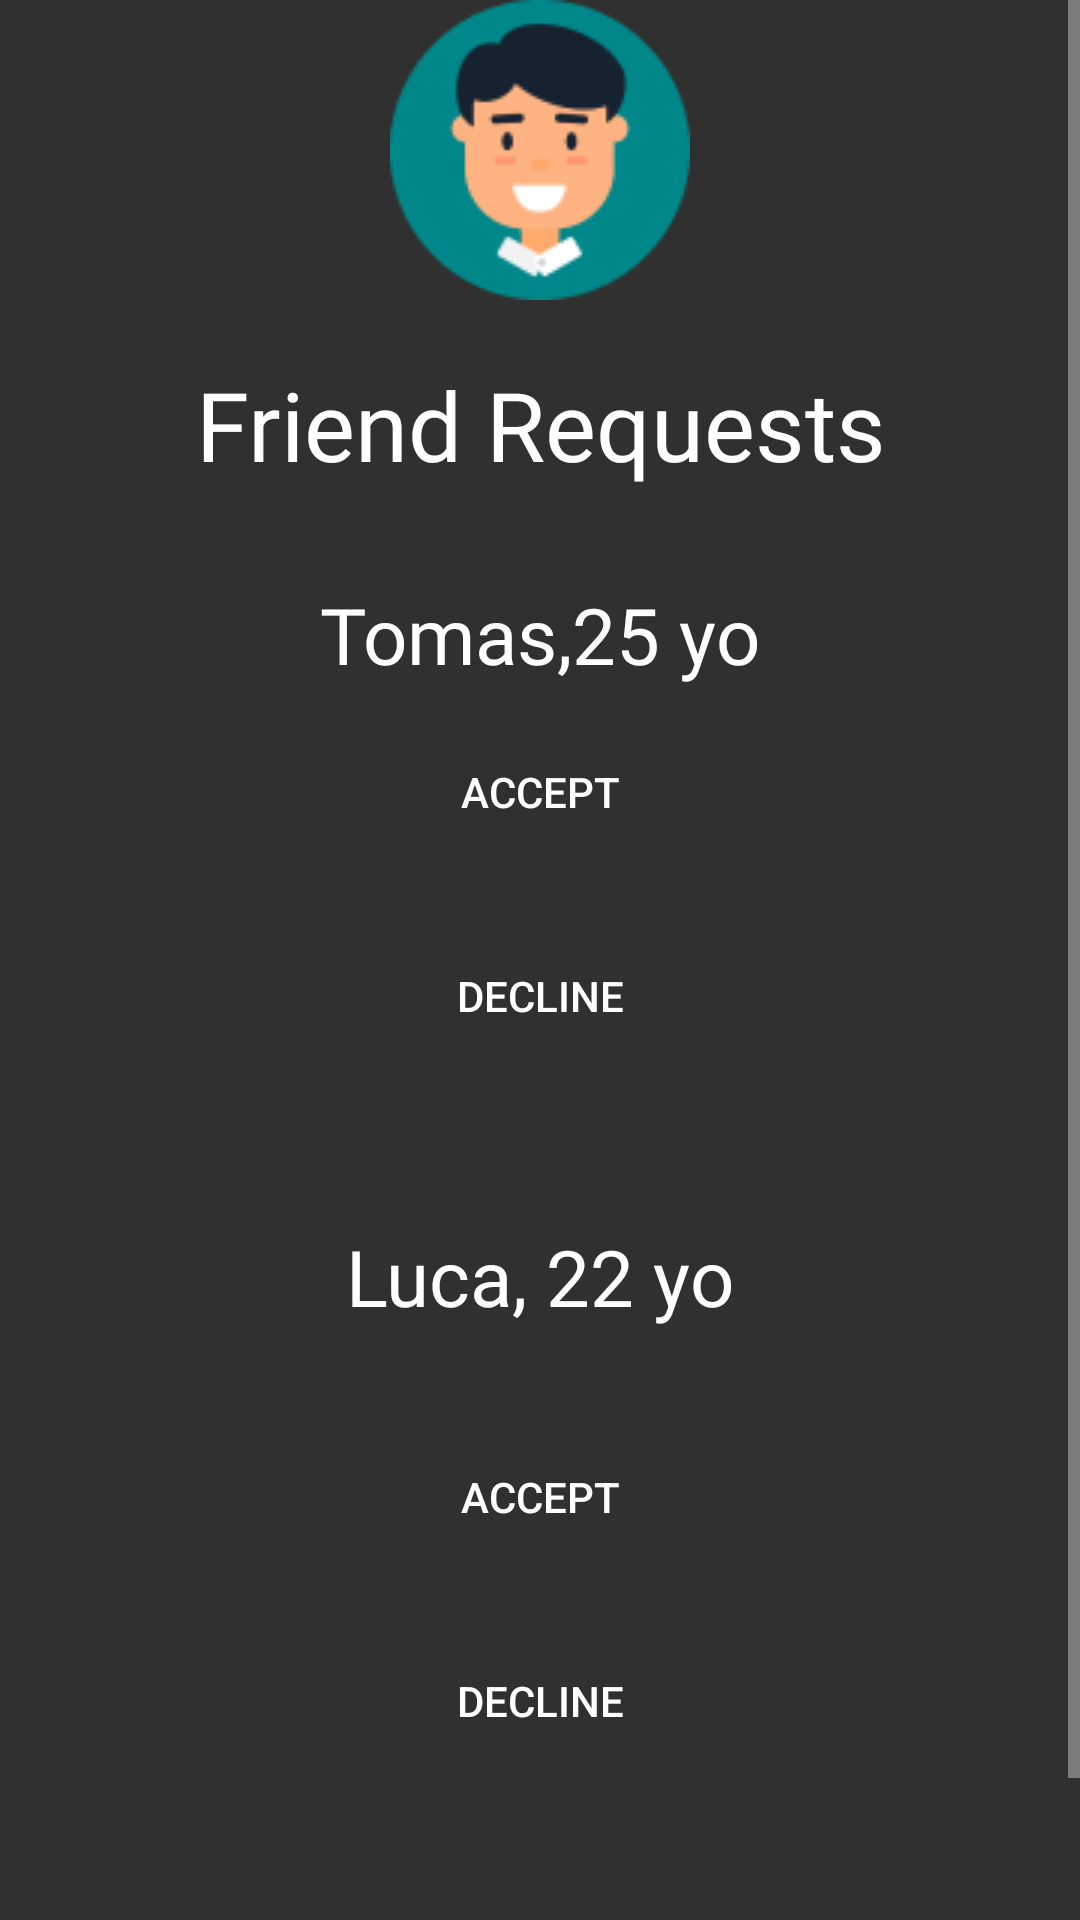

Where icons sit on this 1080px×1920px app screen, as bbox=(x1, y1, x2, y2):
profile: bbox=(390, 0, 690, 300)
